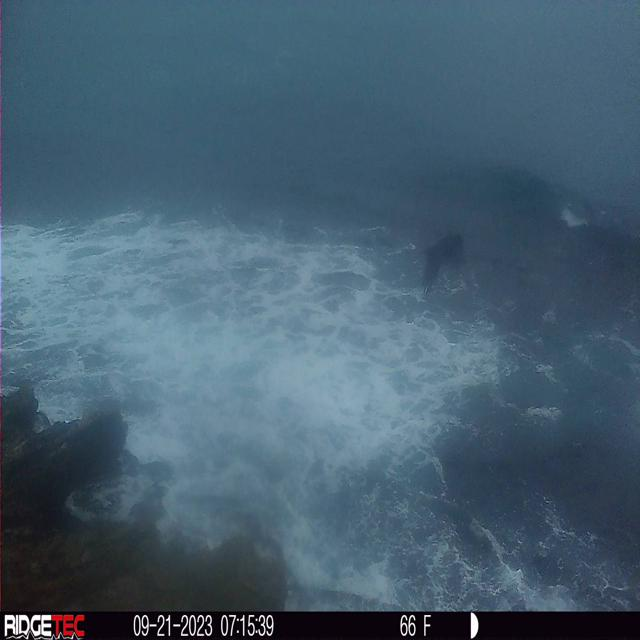bird: (416, 230, 477, 300)
